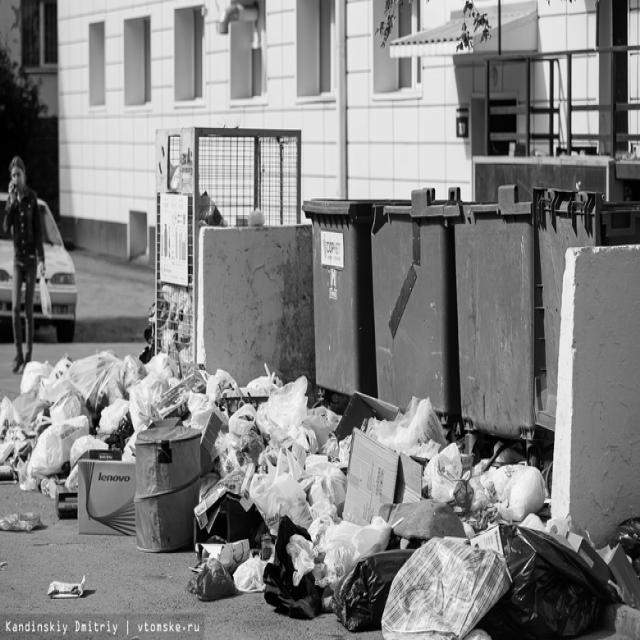Trashcan: (152, 109, 302, 371), (536, 154, 633, 452), (459, 161, 538, 458), (380, 161, 460, 437), (305, 154, 381, 412)
